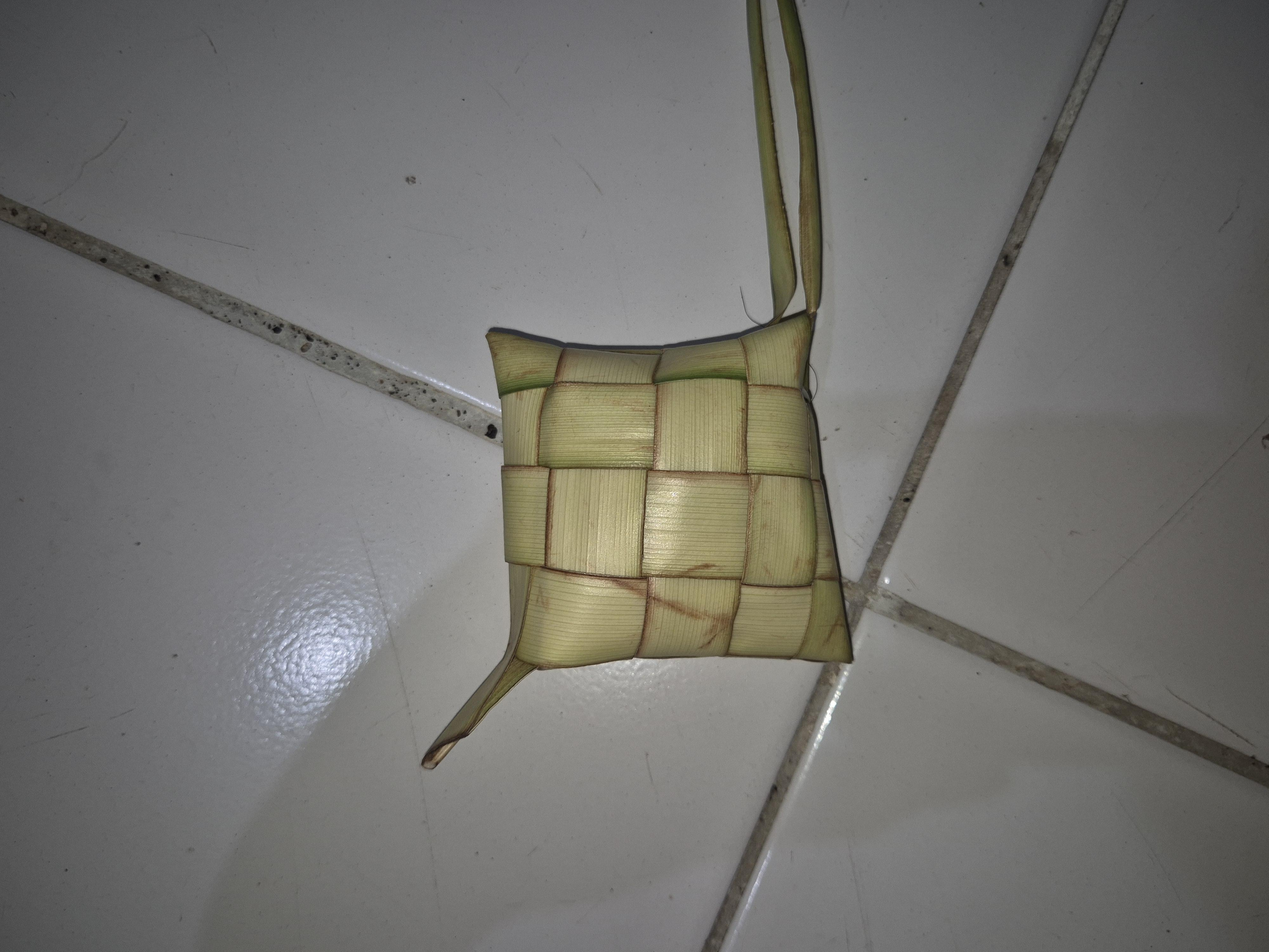Tipat Nasi: (379, 367, 851, 637)
